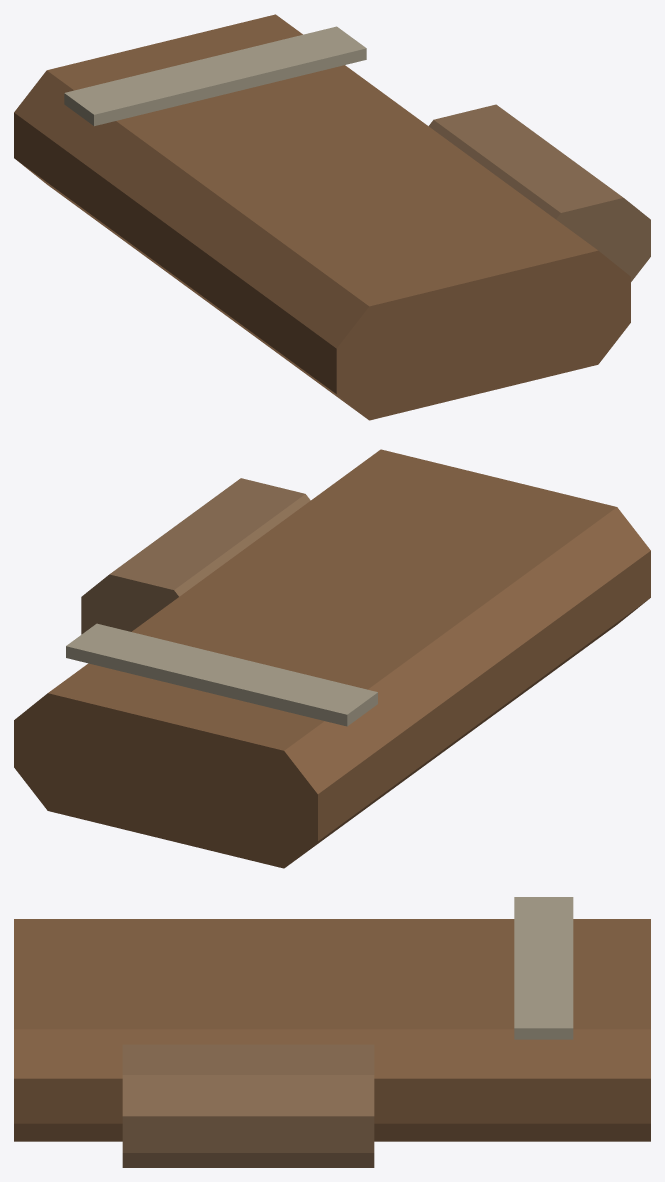
File: L-40_thermal_mitt.glb
The picture shows the model from 3 angles, top to bottom: view 1: azimuth 30°, elevation 25°; view 2: azimuth 150°, elevation 25°; view 3: azimuth 270°, elevation 25°; orthographic projection. The views are drawn at different scales.
Visible parts, largest first — view 1: L-40_thermal_mitt; view 2: L-40_thermal_mitt; view 3: L-40_thermal_mitt.
Part boxes in pixels (left/top/right/bottom): L-40_thermal_mitt: left=14, top=14, right=650, bottom=420; L-40_thermal_mitt: left=14, top=449, right=650, bottom=868; L-40_thermal_mitt: left=14, top=897, right=650, bottom=1167.
Bounding box in the file's own units: 0.1355 × 0.044 × 0.205.
